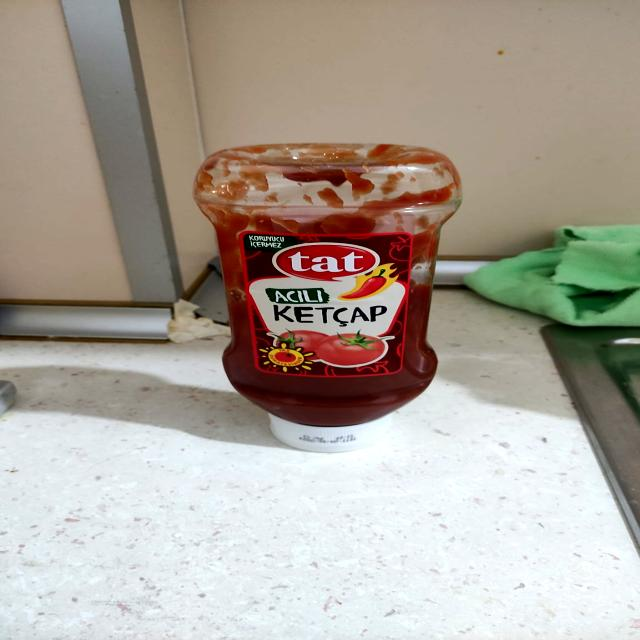ketchup: (168, 125, 494, 459)
